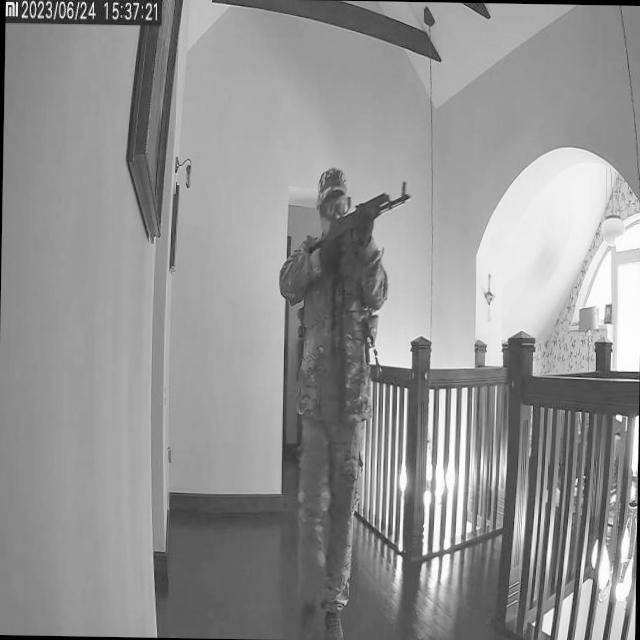gun: (305, 178, 411, 272)
person with a gun: (273, 165, 418, 640)
